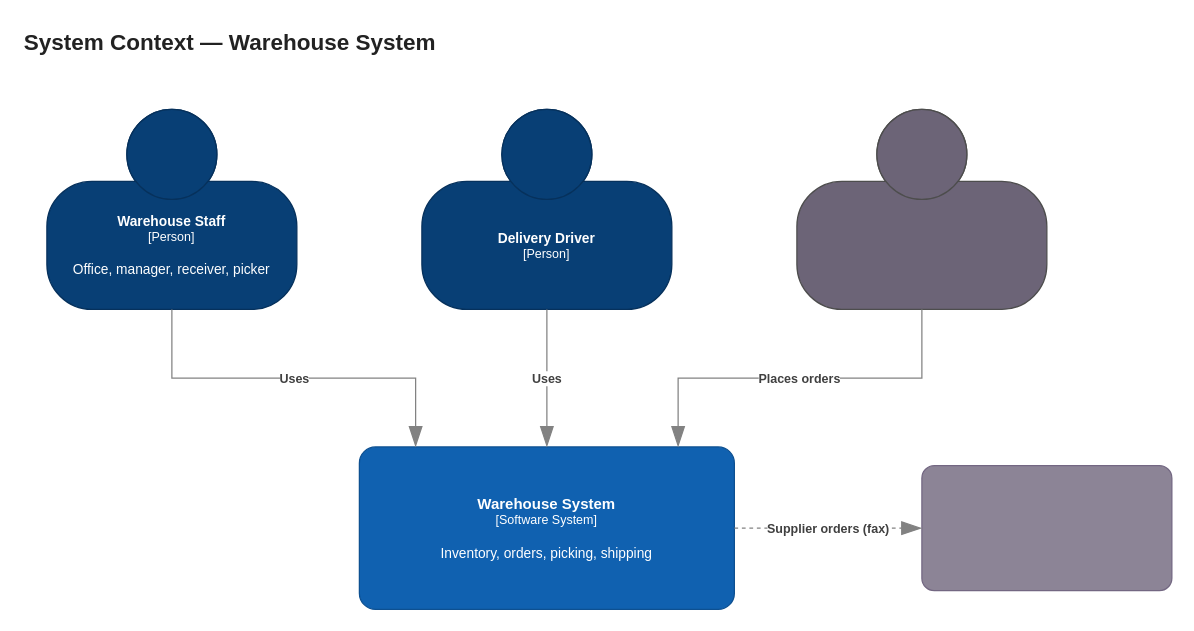
The diagram is 1194 pixels wide and 631 high, and some of its shapes have lost their labels. The centre of each missing label's shape, as x and y in pixels:
Store Customer [Person]: the point at 921,208
Supplier [External]: the point at 1046,527
